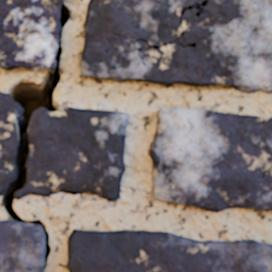brick: (80, 0, 271, 92), (150, 108, 271, 211), (68, 230, 271, 271), (0, 0, 63, 70), (0, 220, 44, 271)
broken_brick: (15, 106, 129, 201), (0, 91, 16, 194)
crack: (0, 2, 71, 269), (261, 165, 271, 178)
